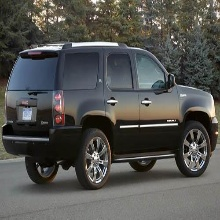no damage: (1, 40, 218, 189)
